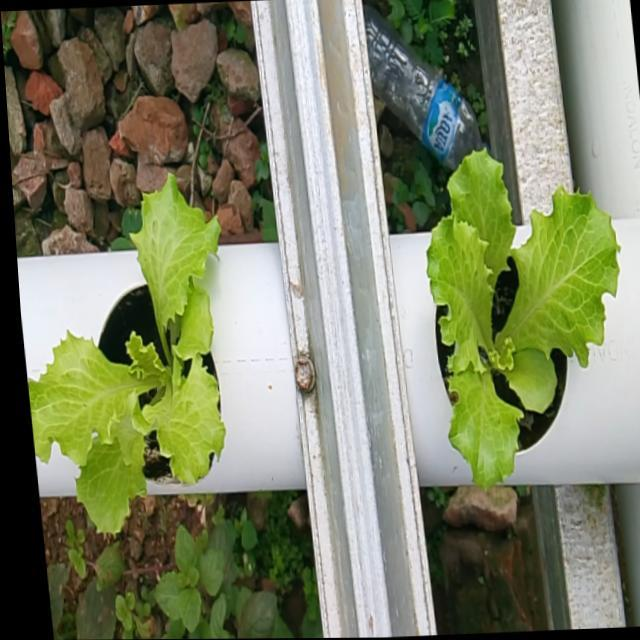Baby: (34, 173, 234, 528), (431, 145, 625, 484)
